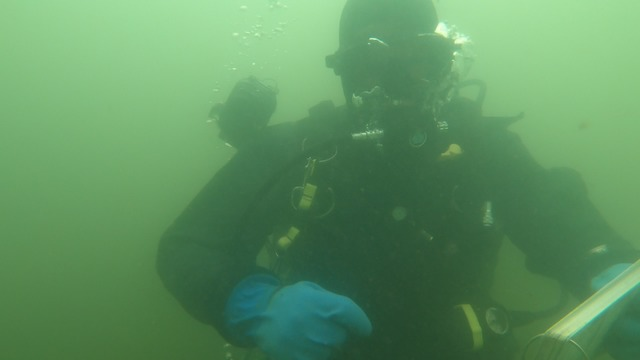Hand: (214, 262, 367, 353)
